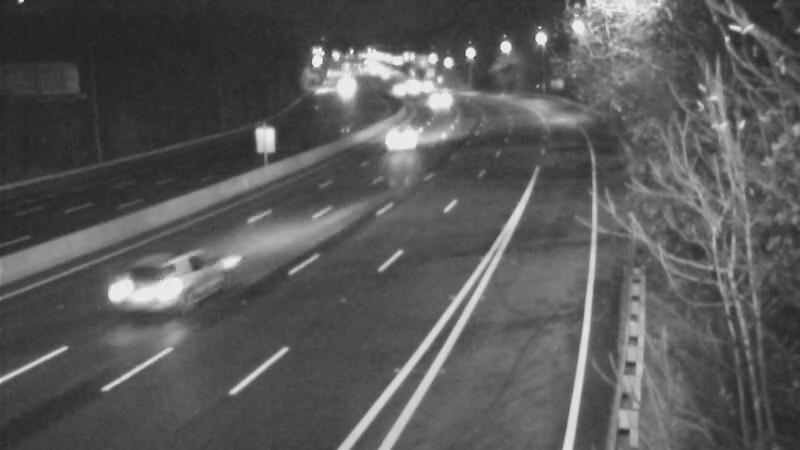vehicle: (96, 245, 176, 325), (413, 75, 463, 125), (383, 114, 433, 164)
